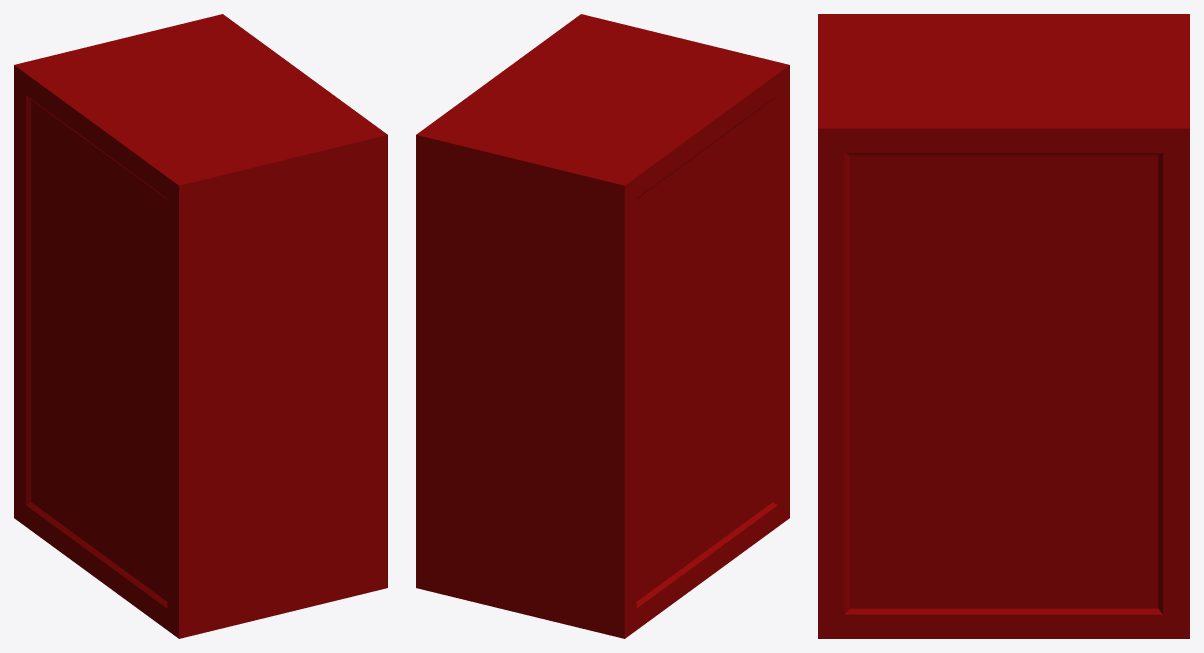
Rendered from kast.glb.
3 views of the same model, side by side, from view 1: azimuth 30°, elevation 25°; view 2: azimuth 150°, elevation 25°; view 3: azimuth 270°, elevation 25° (orthographic). The views are drawn at different scales.
Parts seen in each view (by area): view 1: Cube; view 2: Cube; view 3: Cube.
Part boxes in pixels (x1,y1,x2,y2): Cube: [14, 14, 387, 638]; Cube: [416, 14, 789, 638]; Cube: [818, 14, 1189, 638].
Size of the model in its own units: 0.4381 by 0.9089 by 0.6.
